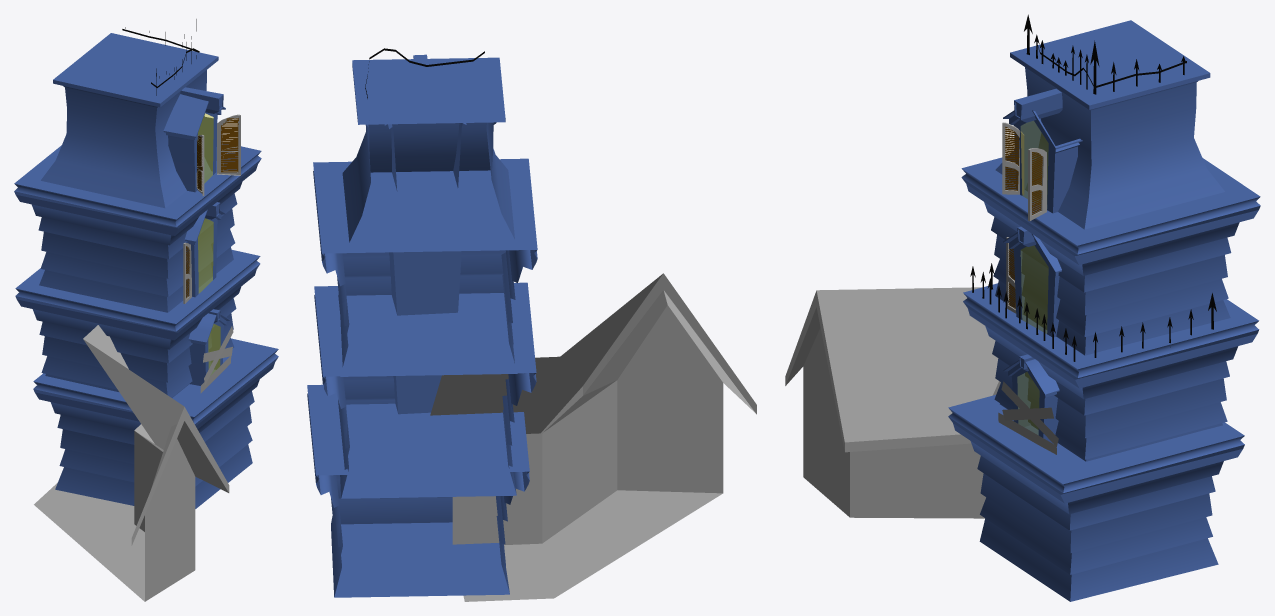
Rendered from house trial to see how it look so fare.fbx.
The picture shows the model from 3 angles, left to right: view 1: azimuth 30°, elevation 25°; view 2: azimuth 150°, elevation 25°; view 3: azimuth 270°, elevation 25°; orthographic projection. The views are drawn at different scales.
Visible parts, largest first — view 1: pCube46; view 2: pCube46; view 3: pCube46.
Boxes of the visible parts, box(x1,y1,x2,y2) form: pCube46: box(14, 19, 278, 601); pCube46: box(307, 48, 756, 601); pCube46: box(785, 14, 1260, 601).
Size of the model in its own units: 8.09 by 13.29 by 10.65.
